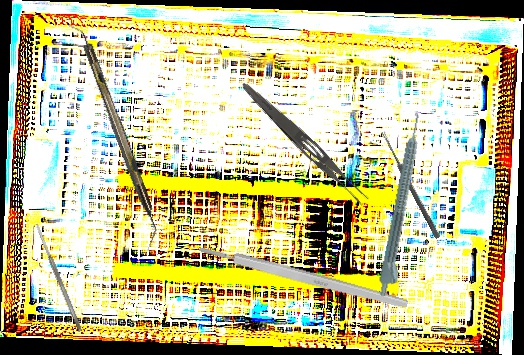Chopper: (68, 42, 170, 253), (67, 19, 154, 215)
Dressing Forceps: (234, 78, 374, 210)
Handpiece: (375, 111, 433, 300)
Scalpel Handle: (197, 242, 410, 311)
Spatula Surgical: (33, 221, 84, 333)
Surgical Spoon: (379, 131, 442, 239)
